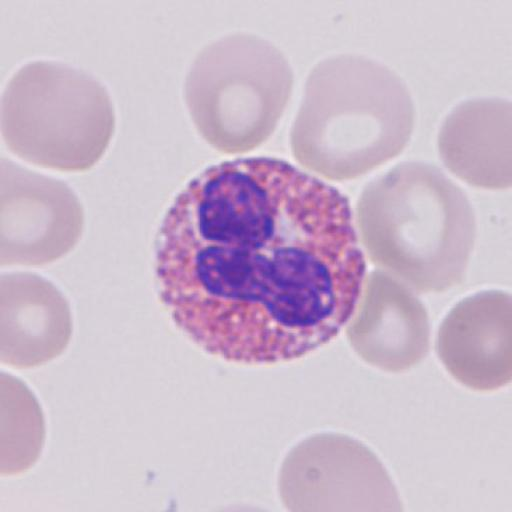RBC: (354, 158, 478, 294), (289, 50, 416, 182), (181, 30, 296, 157), (2, 58, 118, 172), (275, 430, 405, 512), (2, 158, 86, 268), (346, 269, 433, 375), (435, 287, 512, 394), (436, 92, 512, 191), (2, 270, 75, 370), (2, 370, 47, 478), (197, 498, 288, 512)
WBC: (150, 156, 368, 367)
